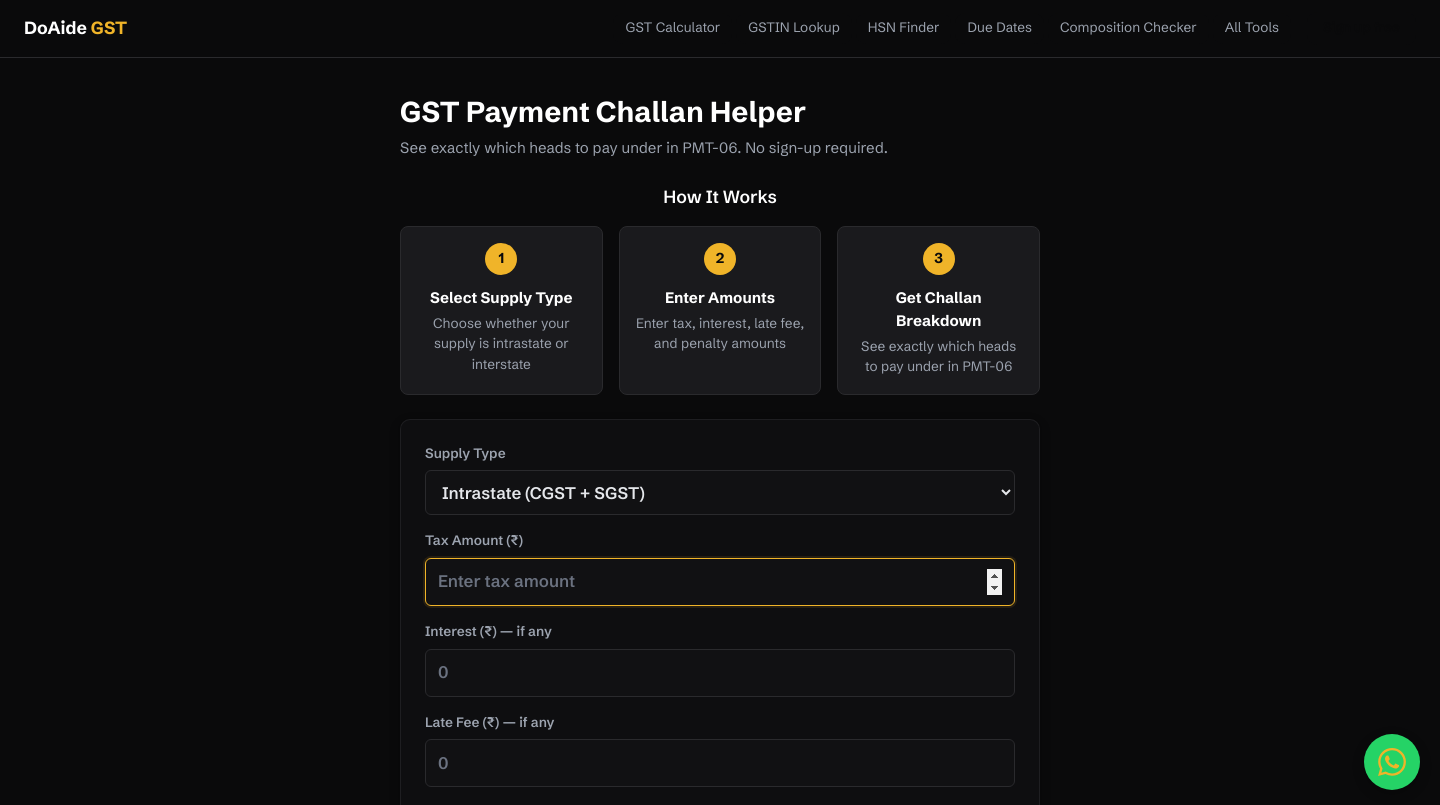
Test: PaymentChallanPage › shows CGST and SGST split for intrastate
The width and height of the screenshot is (1440, 805).
In the number field with placeholder "Enter tax amount": point(720, 582) [425,558,1015,606], type "10000"
(page scrolled)
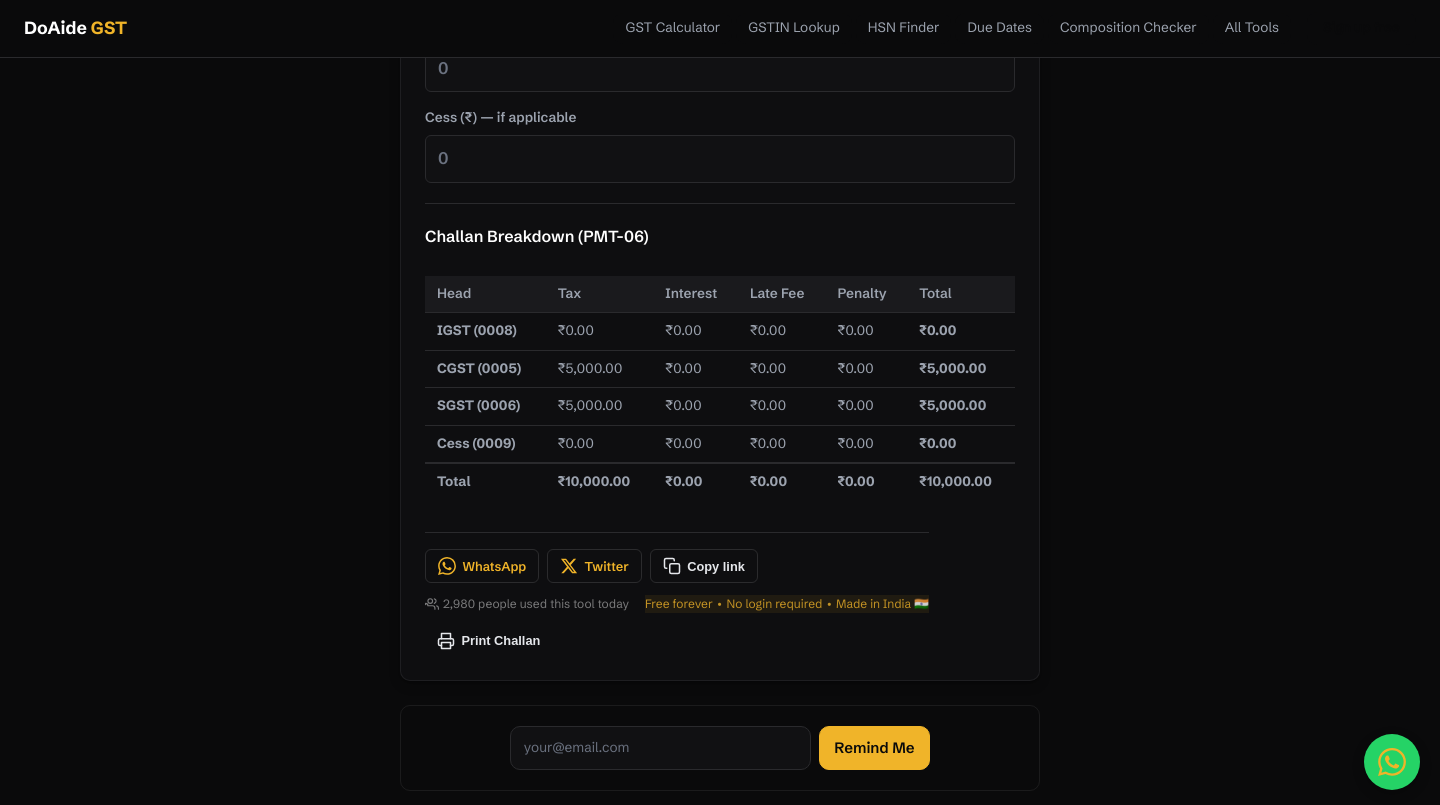
Now the text "CGST (0005)" is shown, box [437,360,521,377]
Now the text "SGST (0006)" is shown, box [437,397,520,414]
